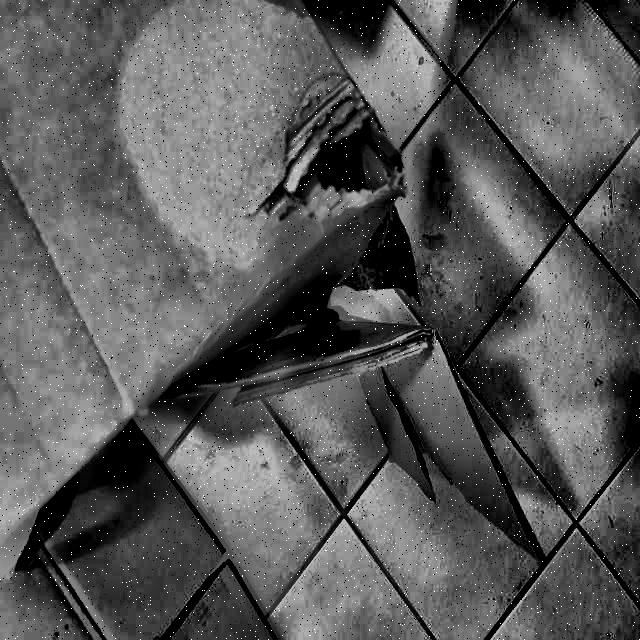box: (0, 0, 403, 572)
hole: (284, 101, 418, 227)
